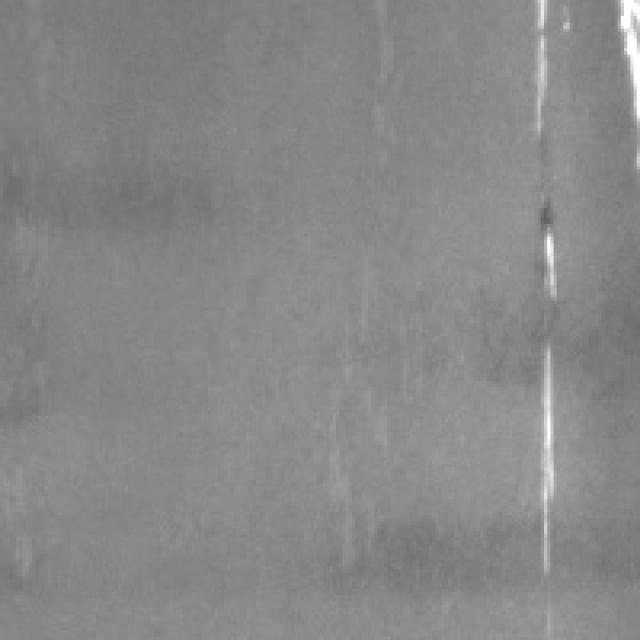scratches: (531, 192, 579, 589), (528, 0, 570, 144)
